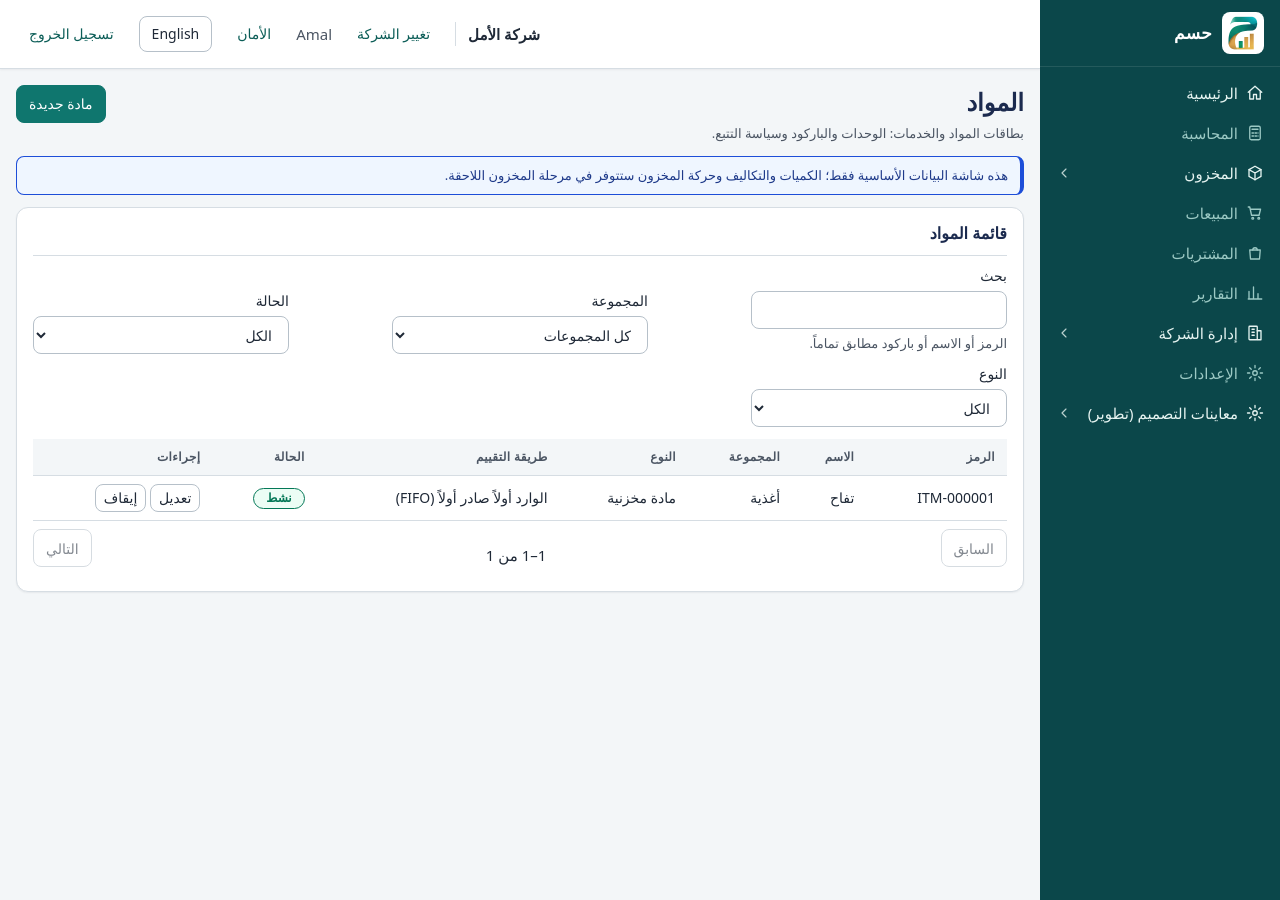
item editor: tabs standard › marks the tab that has errors, opens it, and never silently saves
Expected: the element with test id "company-name" is shown, [455, 22, 540, 46]
Click the button "مادة جديدة". click: (61, 104)
box: [16, 85, 106, 123]
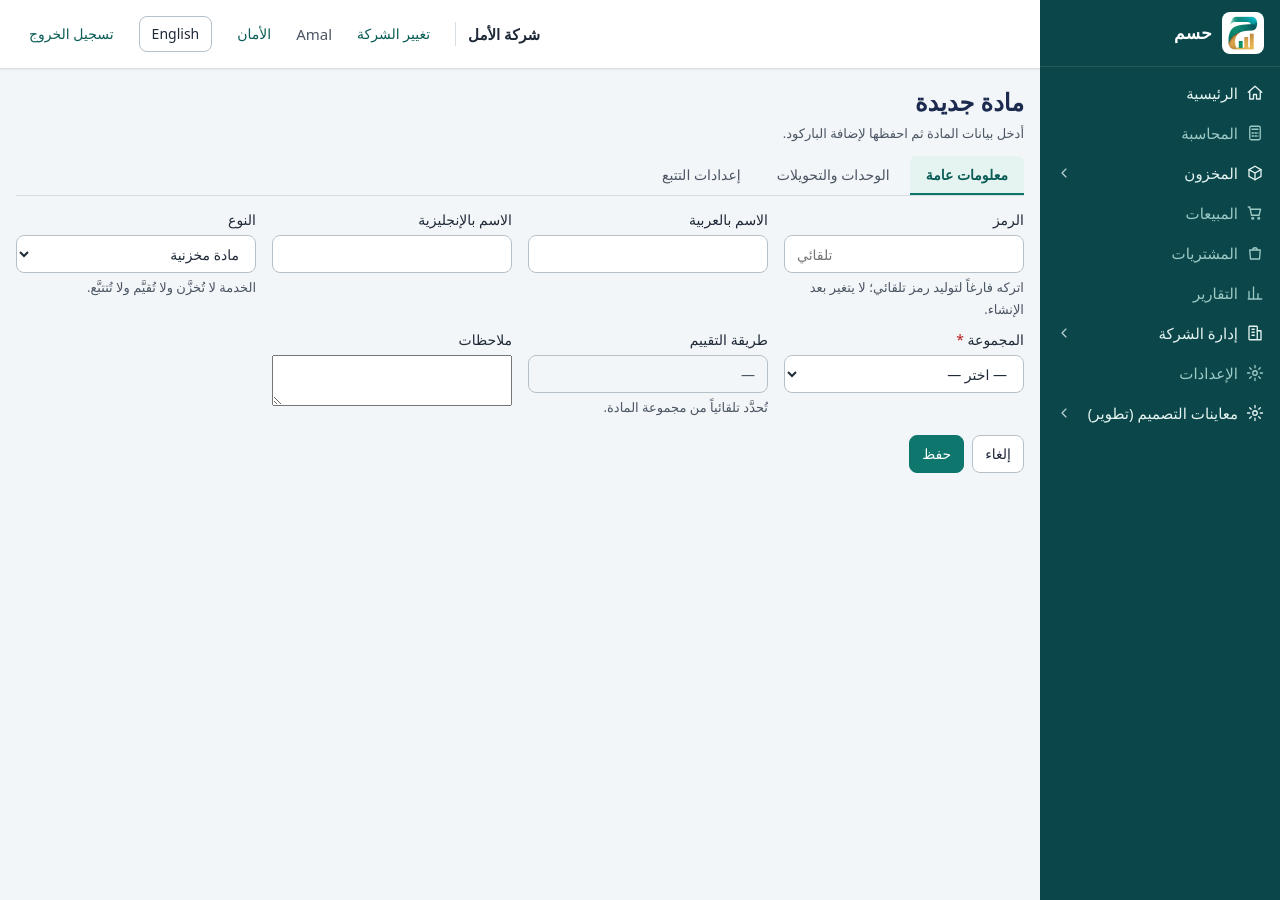
Expected: the element with test id "item-editor" is shown, [16, 85, 1024, 472]
Click the tab "الوحدات والتحويلات". click: (833, 176)
box: [761, 156, 906, 196]
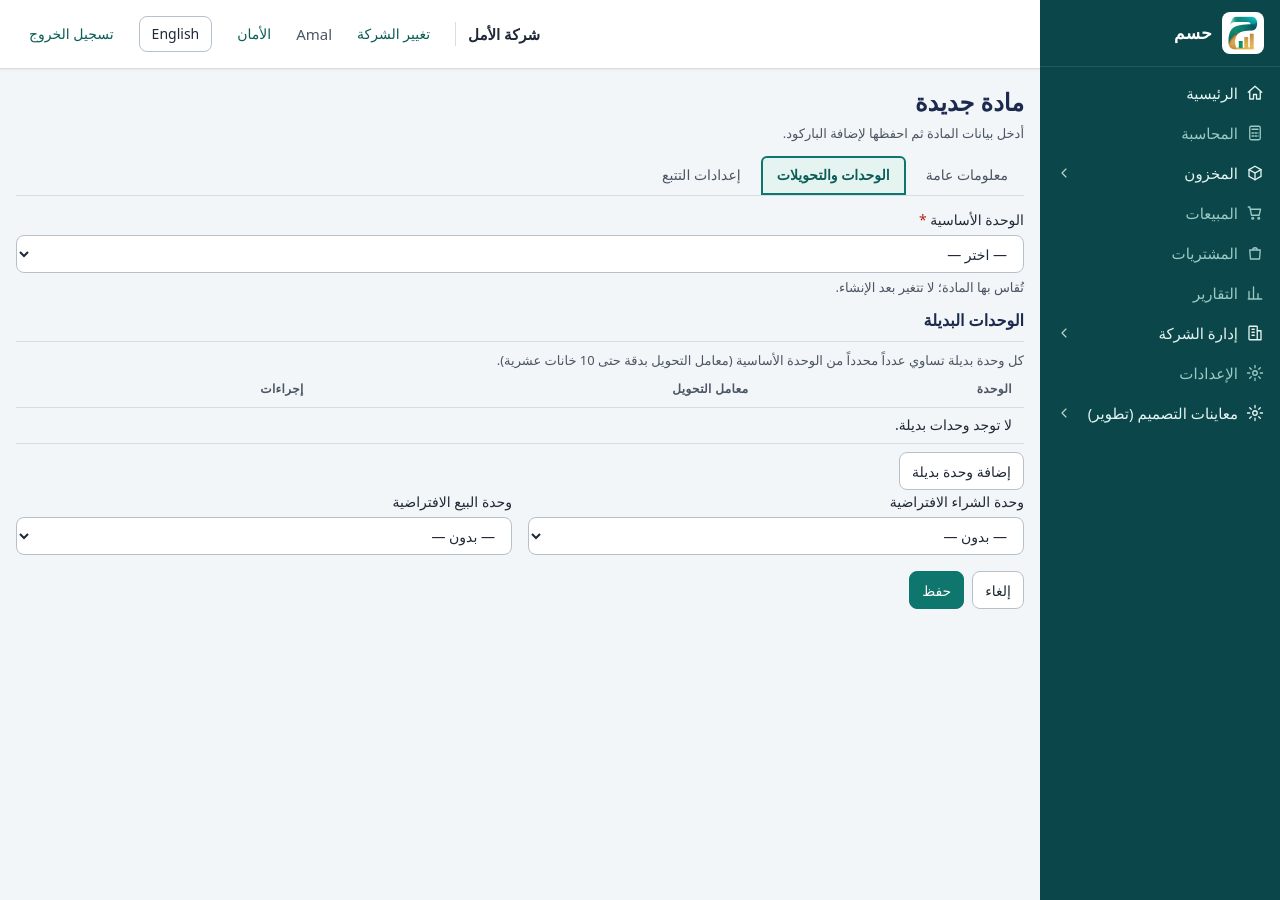
Click the button "حفظ". click: (937, 590)
box: [909, 571, 964, 609]
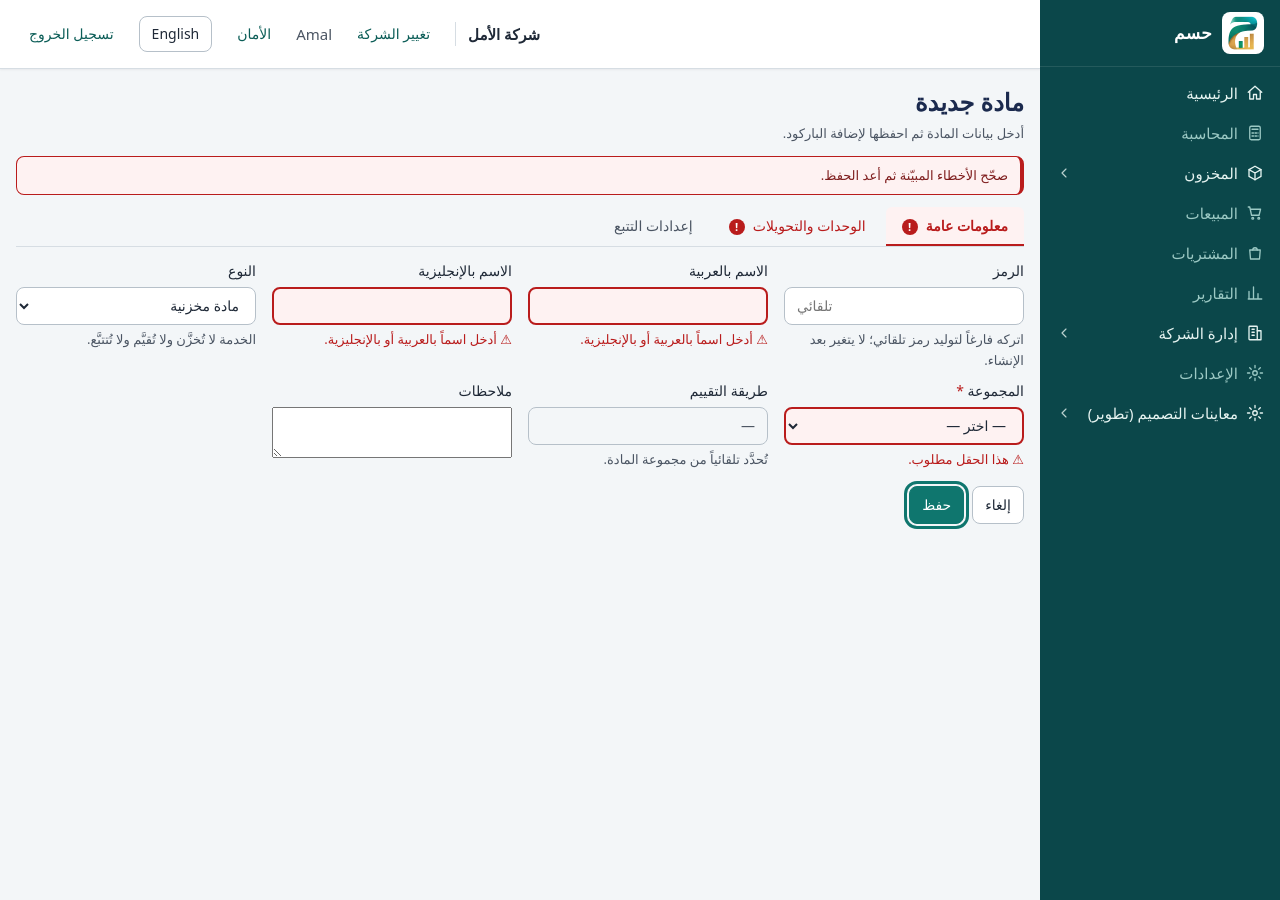
Expected: the message with test id "form-error" shows "صحّح الأخطاء", [821, 166, 1008, 184]
Expected: the text "أدخل اسماً بالعربية أو بالإنجليزية." below "الاسم بالعربية" is shown, [580, 330, 753, 348]
